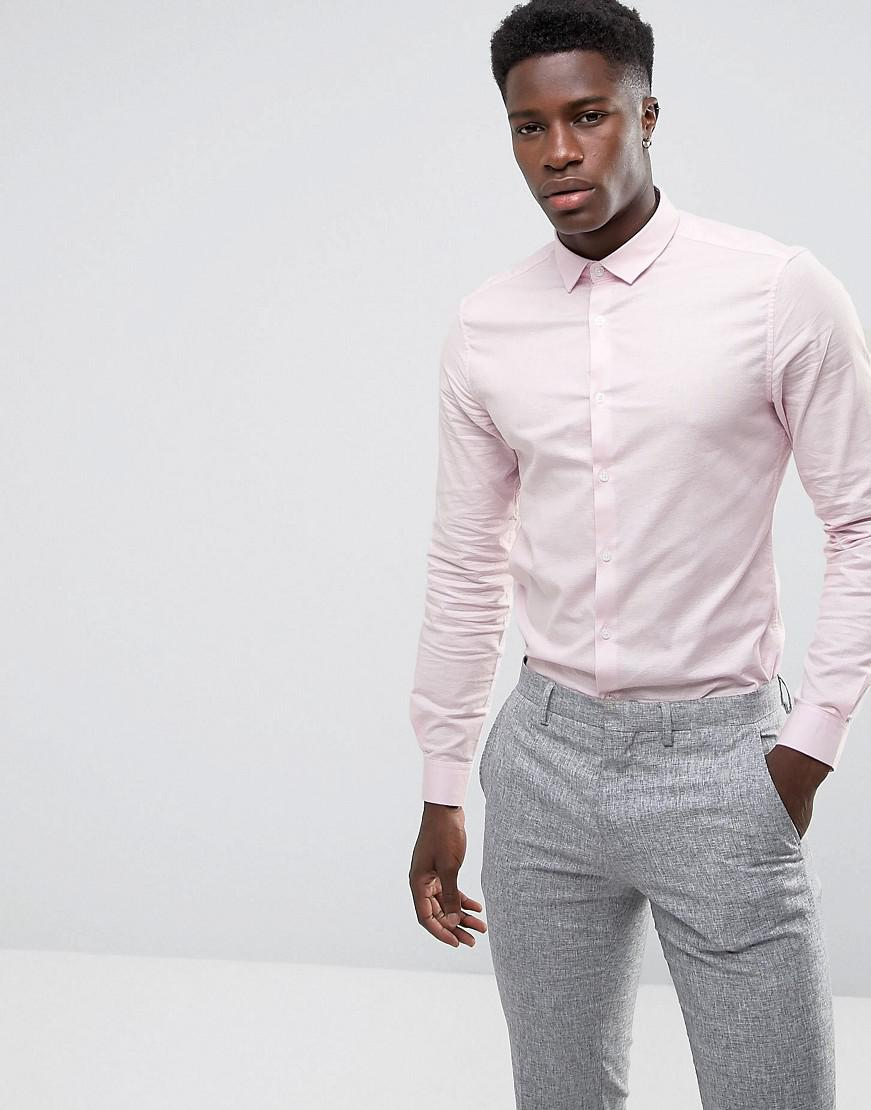teeshirt: (430, 203, 871, 825)
